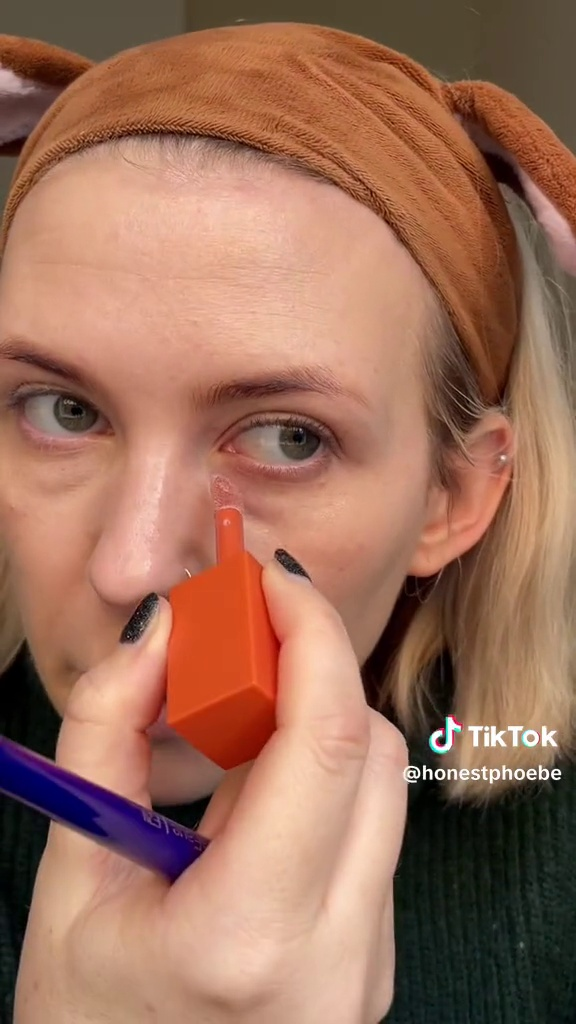train' :'yolo_data/train/images',: (153, 469, 306, 777)
